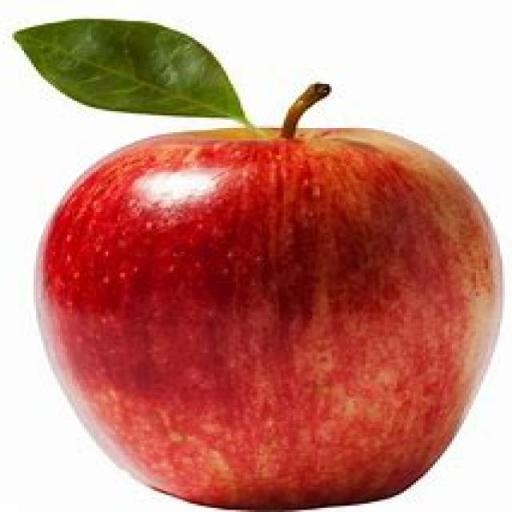fruit: (37, 86, 500, 509)
